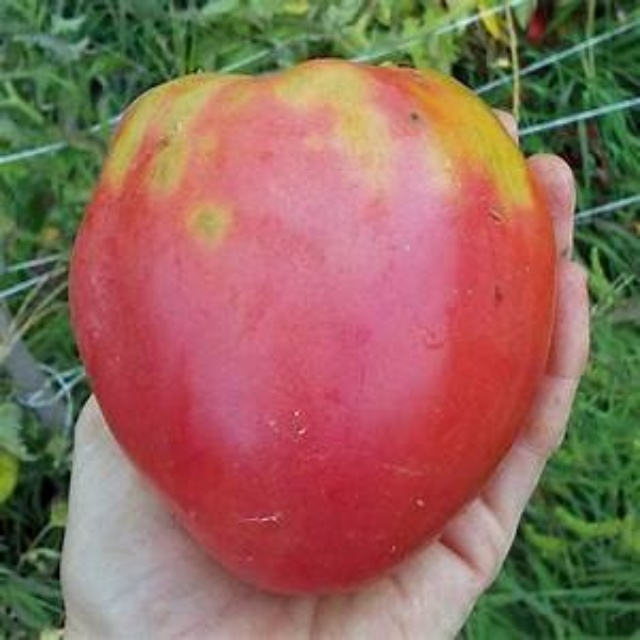tomato: (64, 63, 559, 591)
